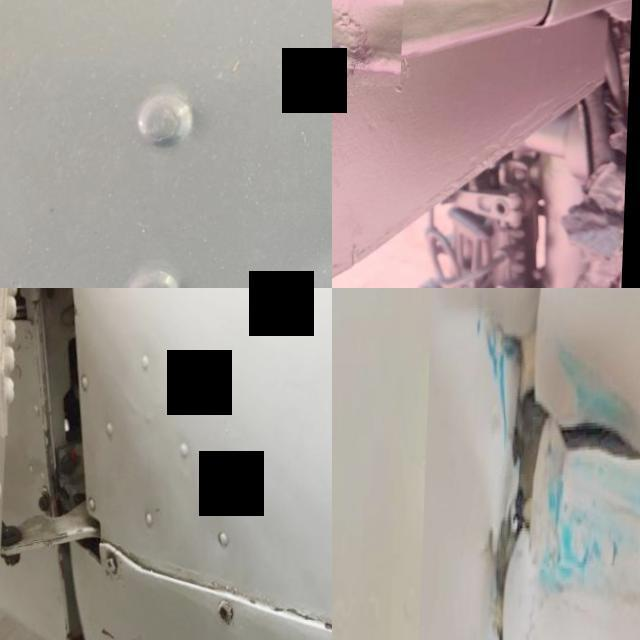Crack: (423, 288, 640, 640), (93, 607, 167, 640)
Dent: (332, 0, 405, 94), (261, 201, 332, 288)
